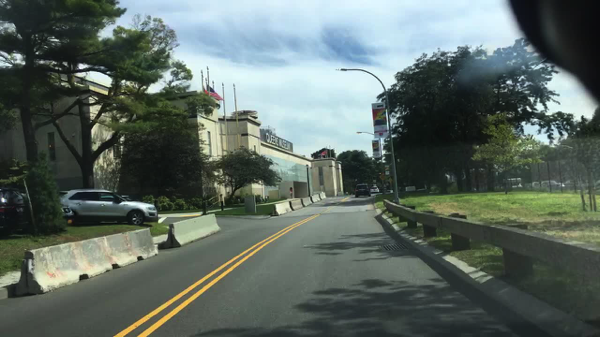car: (56, 187, 156, 225), (0, 187, 33, 235), (56, 190, 135, 202), (502, 177, 523, 189), (536, 180, 563, 188), (354, 184, 370, 197), (563, 180, 579, 187), (529, 181, 537, 190), (370, 186, 379, 192), (385, 188, 394, 193)
